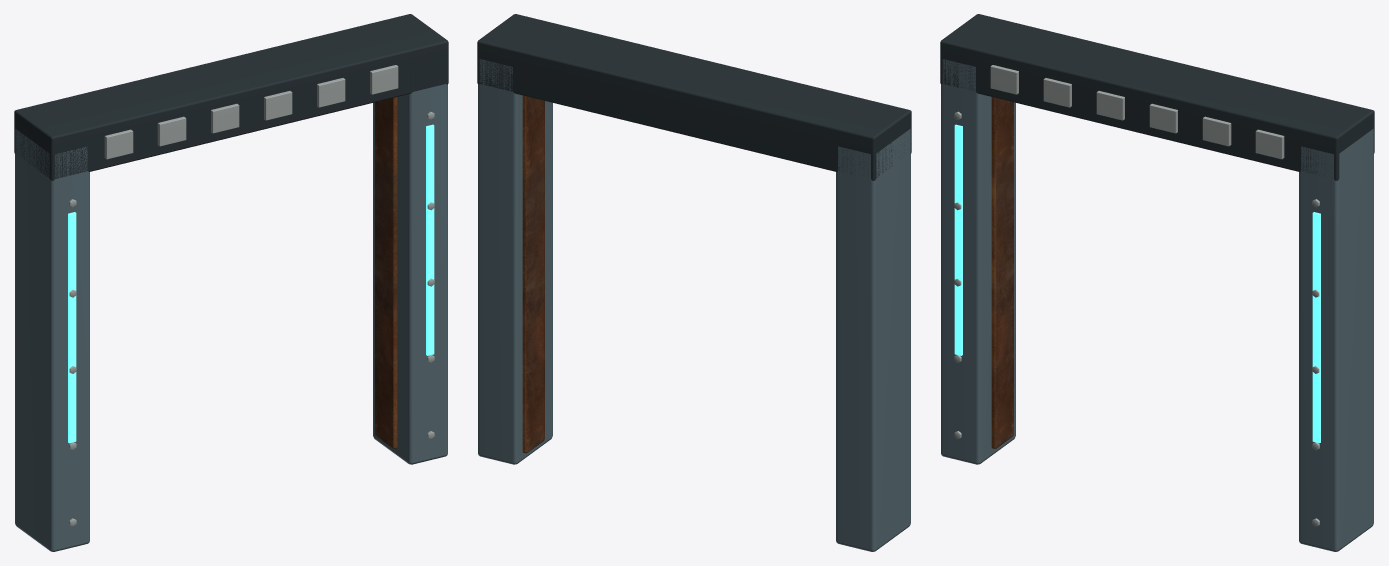
File: terrain-door-open.glb
3 views of the same model, side by side, from view 1: azimuth 30°, elevation 25°; view 2: azimuth 150°, elevation 25°; view 3: azimuth 330°, elevation 25° (orthographic).
Parts seen in each view (by area): view 1: terrain-door-open; view 2: terrain-door-open; view 3: terrain-door-open.
Boxes of the visible parts, x1,y1,x2,y2 form: terrain-door-open: (14,14,448,551); terrain-door-open: (477,14,911,551); terrain-door-open: (940,14,1374,551).
Bounding box in the file's own units: 3 × 3 × 0.5275.
5 materials, 1 textured.
